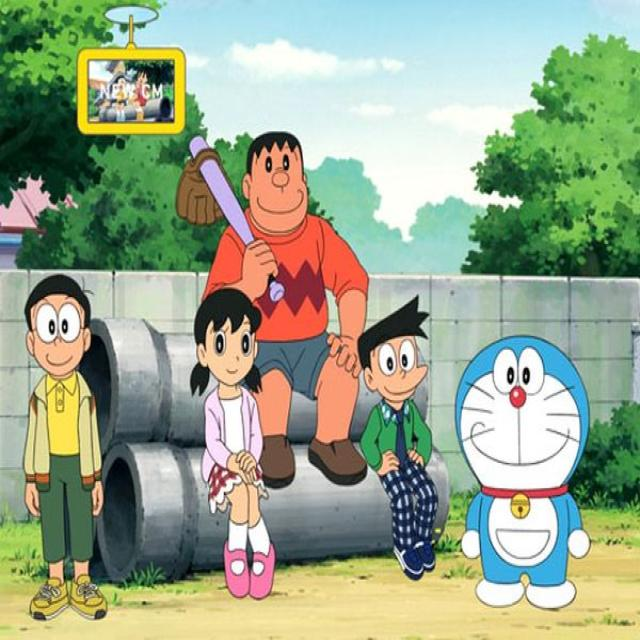doraemon: (450, 332, 590, 523)
jaian: (240, 127, 310, 240)
nobita: (19, 269, 97, 386)
shizuka: (184, 283, 269, 399)
suneo: (354, 290, 430, 413)
